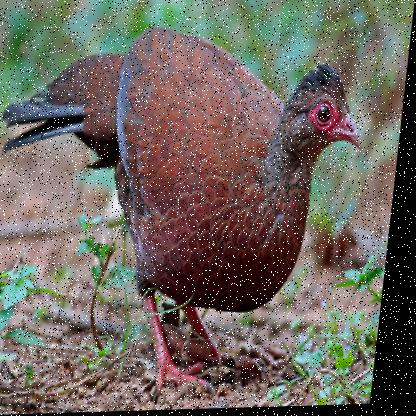Burung: (0, 23, 375, 402)
